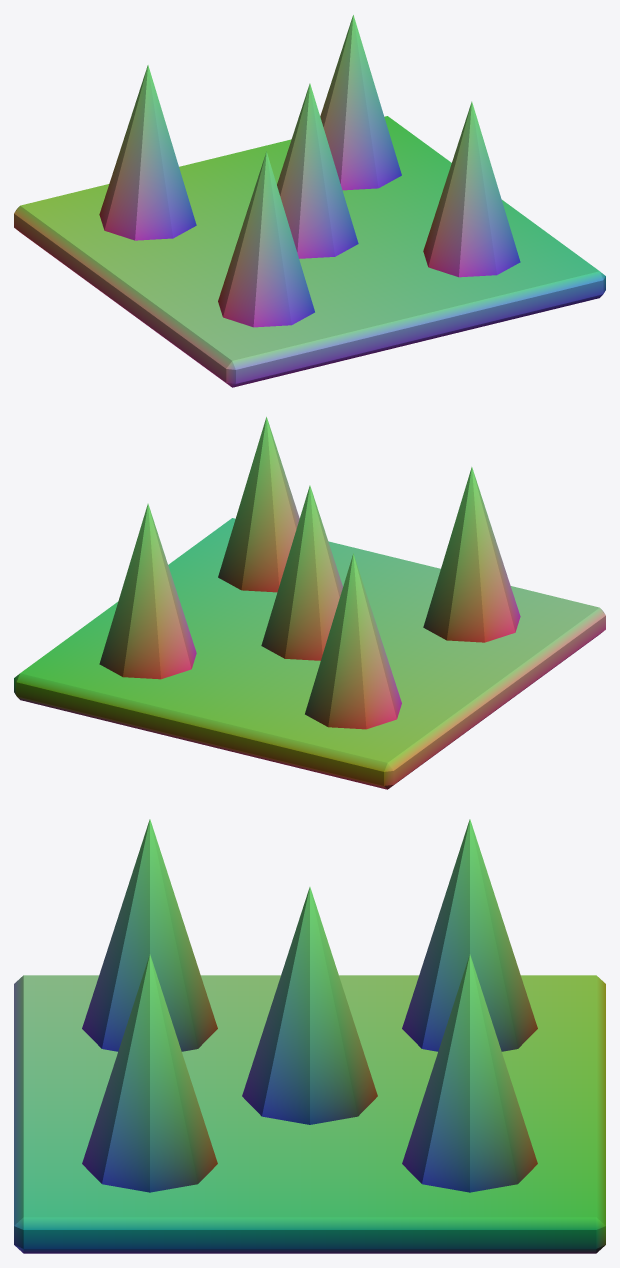
Rendered from spike.fbx.
The picture shows the model from 3 angles, top to bottom: view 1: azimuth 30°, elevation 25°; view 2: azimuth 150°, elevation 25°; view 3: azimuth 270°, elevation 25°; orthographic projection. The views are drawn at different scales.
Visible parts, largest first — view 1: spike; view 2: spike; view 3: spike.
Boxes of the visible parts, x1,y1,x2,y2 form: spike: [14, 15, 605, 387]; spike: [14, 417, 605, 789]; spike: [14, 819, 605, 1253].
Size of the model in its own units: 0.74 by 0.34 by 0.74.
